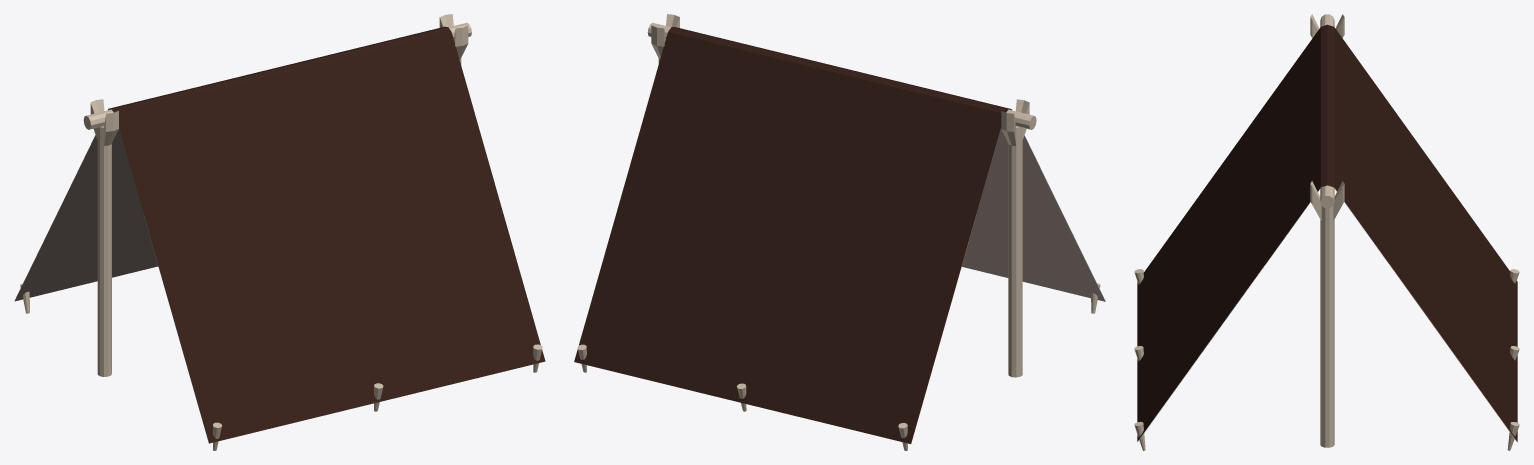
The model's file is Tent.fbx.
3 renders of one model, left to right at view 1: azimuth 30°, elevation 25°; view 2: azimuth 150°, elevation 25°; view 3: azimuth 270°, elevation 25°, orthographic. The views are drawn at different scales.
Parts seen in each view (by area): view 1: Tent; view 2: Tent; view 3: Tent.
Part boxes in pixels (x1,y1,x2,y2): Tent: (14, 14, 545, 450); Tent: (574, 14, 1105, 450); Tent: (1134, 14, 1519, 450).
Bounding box in the file's own units: 240 × 168 × 215.
